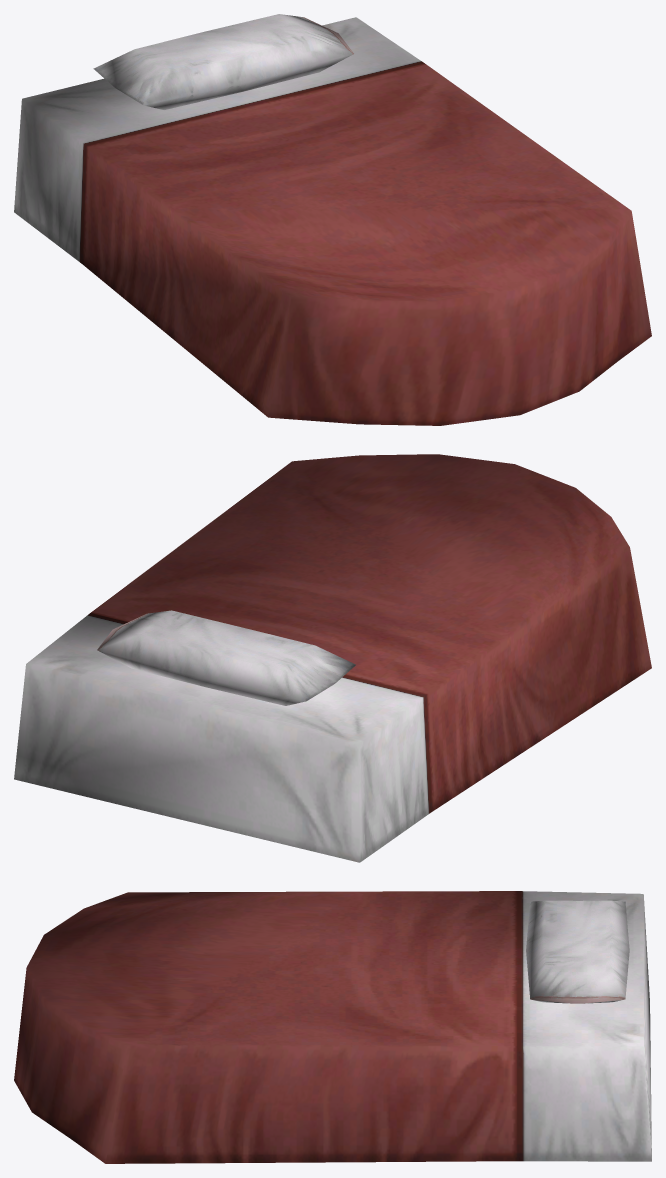
File: frn_all_bed_sm_s1_l1.fbx
3 renders of one model, top to bottom at view 1: azimuth 30°, elevation 25°; view 2: azimuth 150°, elevation 25°; view 3: azimuth 270°, elevation 25°, orthographic. The views are drawn at different scales.
Visible parts, largest first — view 1: mesh_node; view 2: mesh_node; view 3: mesh_node.
Part boxes in pixels (x1=…): mesh_node: x1=14, y1=14, x2=651, y2=425; mesh_node: x1=14, y1=454, x2=651, y2=862; mesh_node: x1=14, y1=891, x2=651, y2=1163.
Size of the model in its own units: 1.27 by 0.5023 by 1.98.
